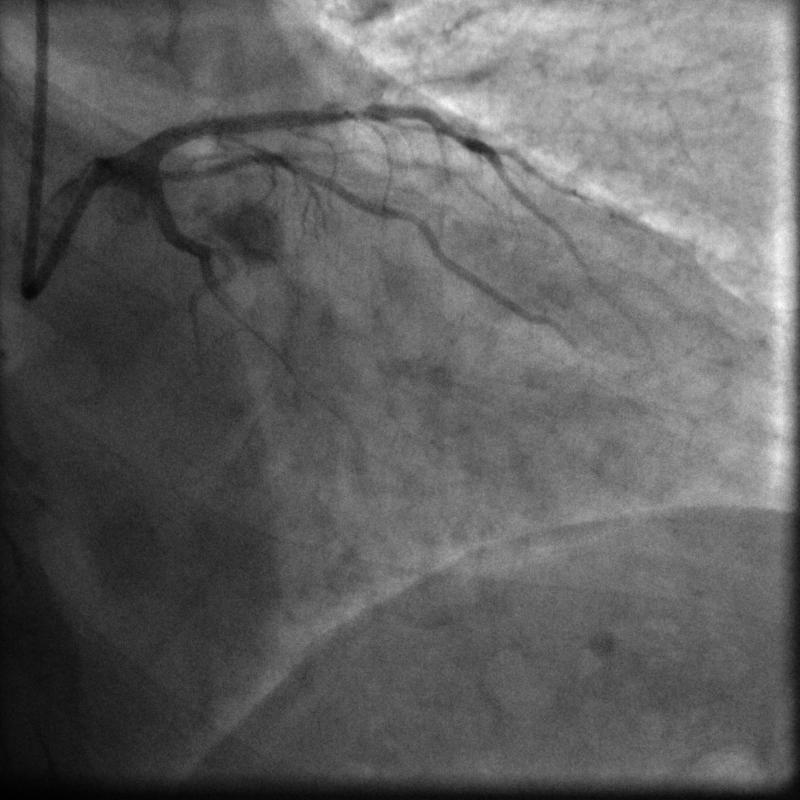Stenosis: (323, 96, 378, 122)
